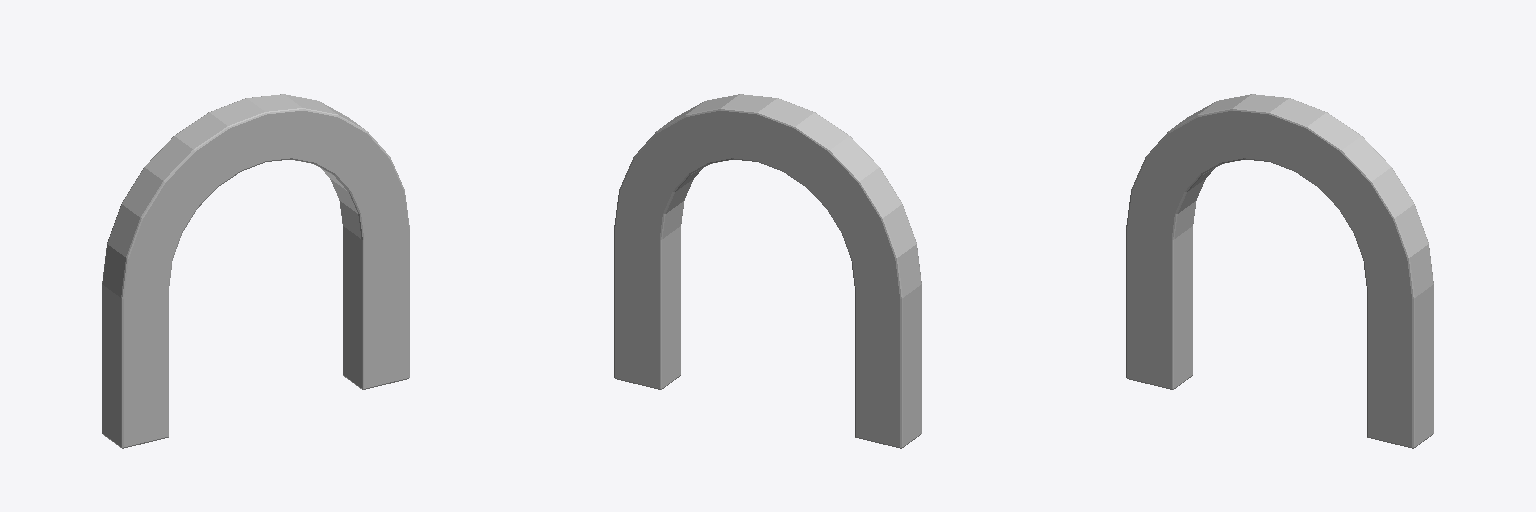
Rendered from ArchwayBlock001.obj.
3 renders of one model, left to right at view 1: azimuth 30°, elevation 25°; view 2: azimuth 150°, elevation 25°; view 3: azimuth 330°, elevation 25°, orthographic.
Parts seen in each view (by area): view 1: pCylinder1; view 2: pCylinder1; view 3: pCylinder1.
Boxes of the visible parts, x1,y1,x2,y2 form: pCylinder1: [102, 94, 409, 448]; pCylinder1: [614, 94, 921, 448]; pCylinder1: [1126, 94, 1433, 448].
Bounding box in the file's own units: 400 × 400 × 50.